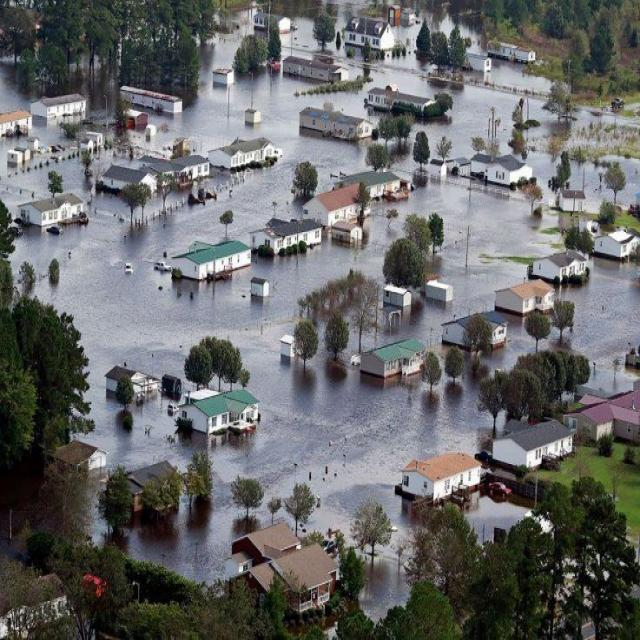flood: (0, 37, 565, 616), (562, 258, 640, 392), (533, 109, 640, 206), (416, 84, 521, 156), (466, 497, 530, 544), (373, 67, 447, 94), (0, 62, 30, 112), (281, 17, 319, 54), (500, 63, 550, 86), (394, 24, 421, 54), (532, 98, 556, 122)
house: (242, 520, 334, 610), (493, 419, 580, 479), (400, 450, 480, 510), (181, 386, 262, 444), (164, 239, 252, 289), (7, 570, 66, 640), (578, 389, 636, 454), (256, 212, 327, 260), (359, 339, 427, 389), (306, 185, 361, 245), (15, 193, 88, 237), (440, 308, 510, 349), (299, 106, 368, 146), (127, 460, 182, 510), (212, 137, 284, 173), (283, 49, 357, 84), (497, 280, 557, 320), (28, 90, 88, 130), (117, 84, 189, 116), (538, 248, 594, 288), (56, 439, 110, 480), (140, 153, 209, 185), (468, 152, 527, 186), (104, 364, 148, 407), (592, 226, 640, 264), (101, 165, 157, 195), (344, 16, 394, 49), (369, 88, 427, 116), (346, 171, 402, 197), (488, 38, 536, 65), (2, 107, 30, 142), (252, 12, 292, 30), (384, 286, 412, 306)
